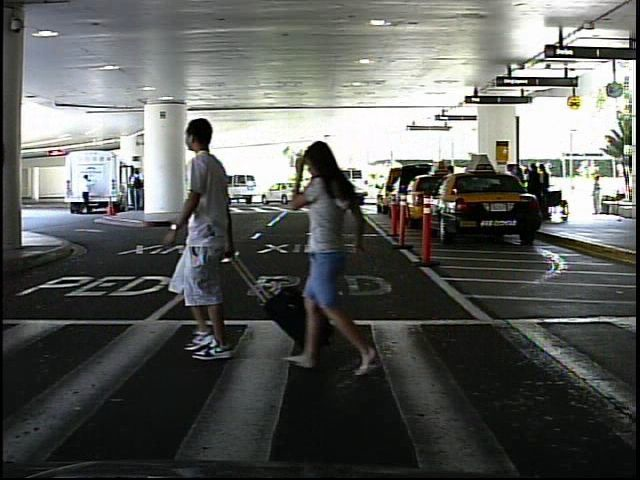person: (156, 100, 271, 367), (296, 134, 394, 380), (77, 171, 96, 222), (588, 172, 607, 218)
